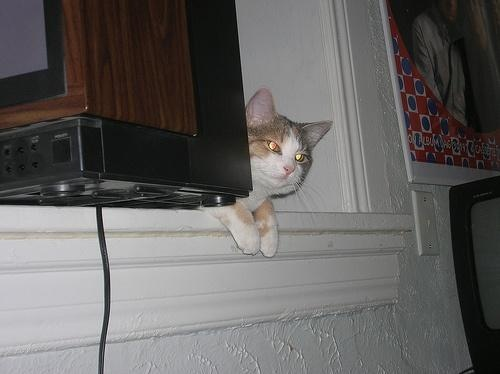cat: (204, 87, 334, 258)
tvmonitor: (2, 2, 253, 211), (450, 175, 500, 374)
